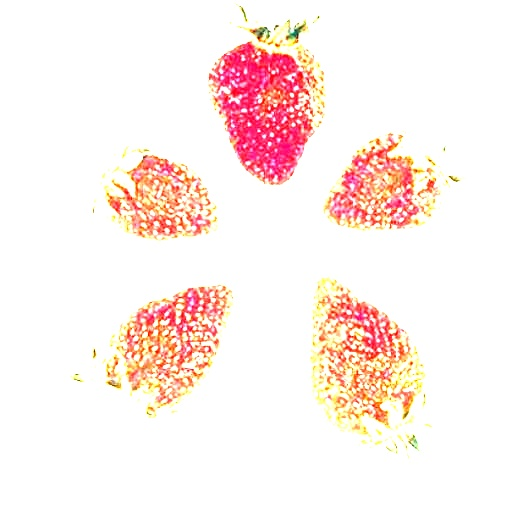Anthracnose Fruit Rot: (126, 327, 182, 387), (355, 161, 410, 208), (132, 170, 189, 215), (344, 361, 395, 409), (252, 70, 296, 117)
